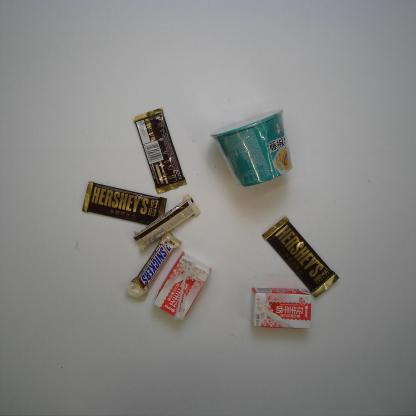Chocolate: (260, 214, 340, 299), (131, 106, 188, 198), (124, 227, 184, 300), (81, 180, 168, 229), (131, 194, 202, 252)
Instant Noodles: (210, 106, 294, 190)
Milk: (151, 250, 212, 323), (247, 286, 314, 331)
